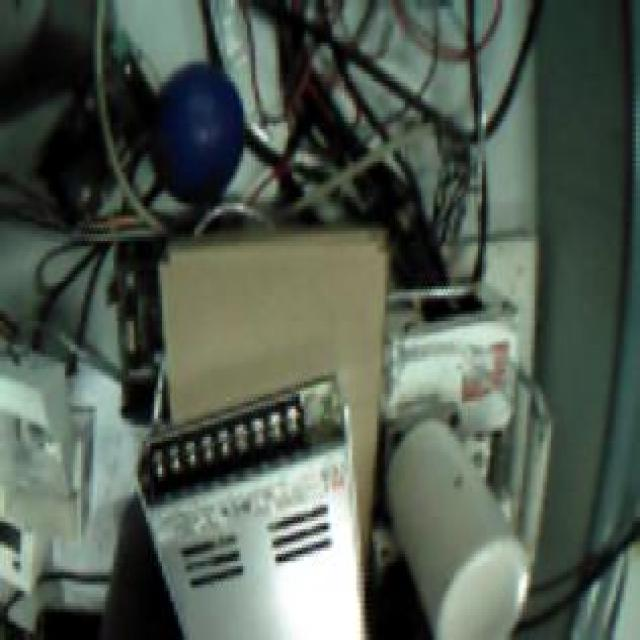BallPurple: (150, 62, 245, 205)
